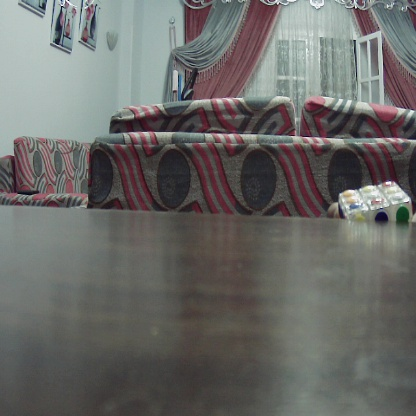Rubix Cube: (334, 176, 413, 221)
